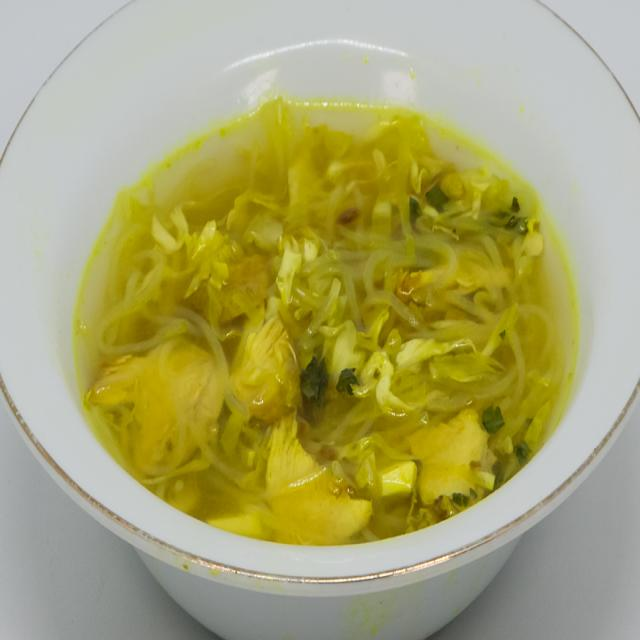Soto-Lamongan: (75, 68, 597, 554)
